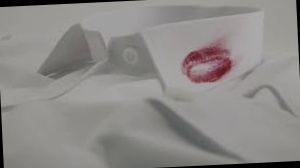lipstick: (178, 45, 231, 82)
